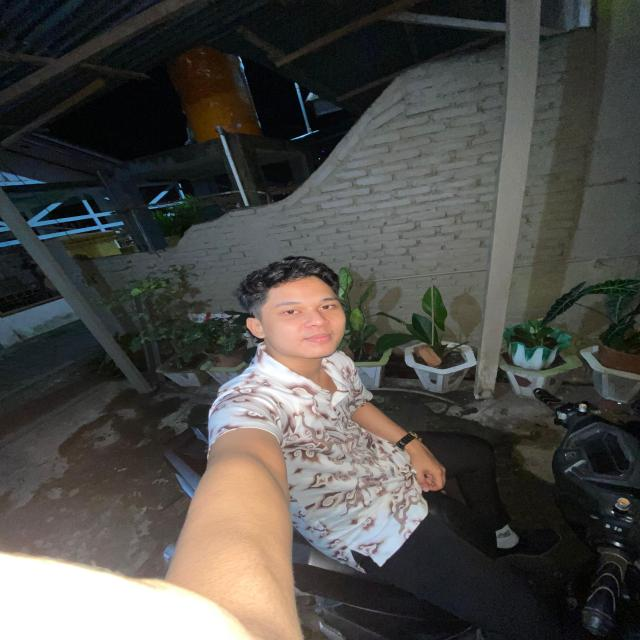nohelmet: (240, 252, 352, 368)
